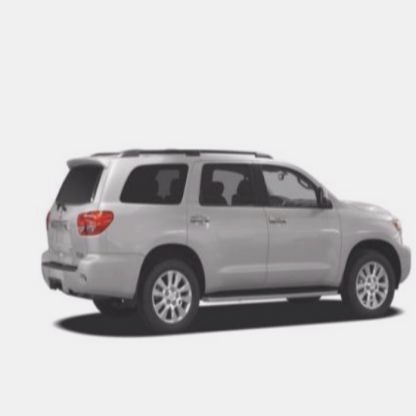Vehicle: (42, 147, 412, 335)
